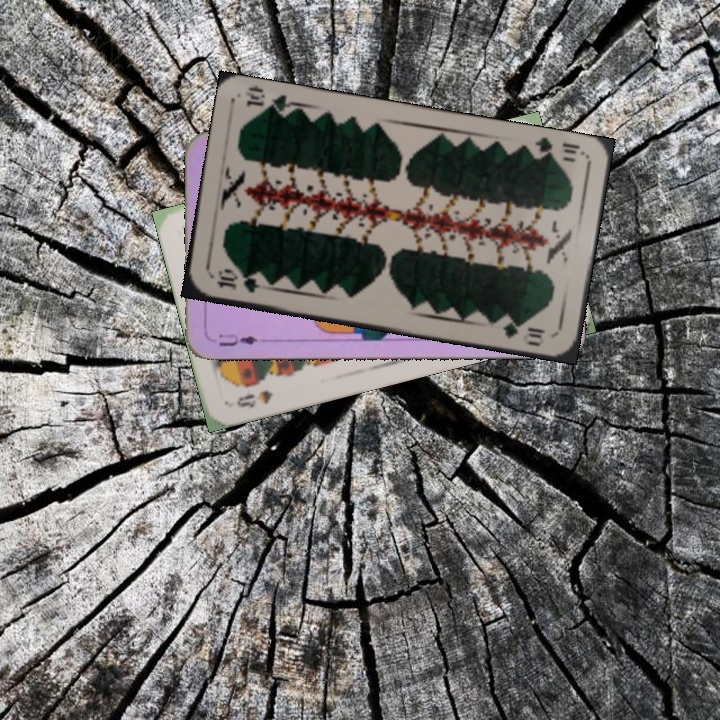EU: (215, 330, 260, 349)
G10: (525, 134, 586, 164), (213, 267, 268, 296)
S8: (232, 386, 275, 411)
